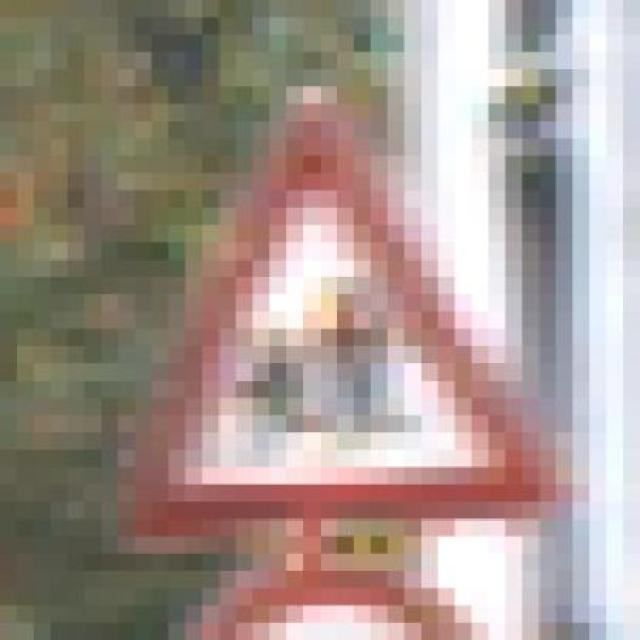Beware of children: (101, 69, 573, 554)
